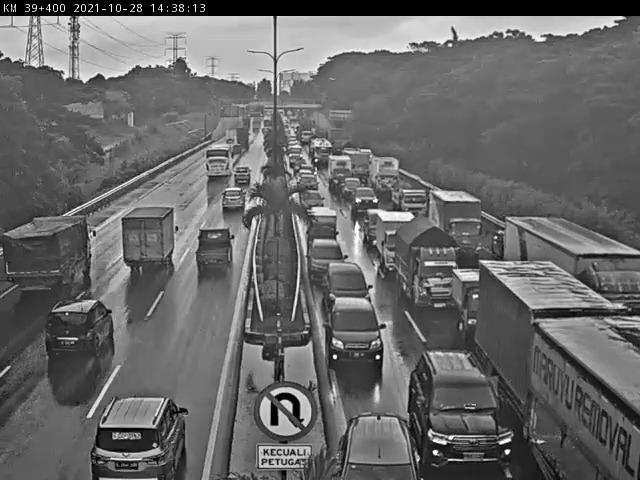big bus: (206, 147, 229, 177)
big truck: (480, 260, 634, 418), (529, 321, 640, 480), (501, 216, 640, 318), (6, 205, 94, 318), (121, 200, 179, 296), (394, 221, 456, 301), (428, 191, 480, 252), (376, 212, 418, 271)
car: (413, 339, 500, 462), (86, 399, 191, 478), (42, 292, 131, 380), (339, 403, 418, 480), (332, 291, 396, 369), (191, 216, 248, 292), (322, 261, 386, 321), (301, 237, 357, 272), (219, 187, 249, 216), (232, 167, 255, 189)
